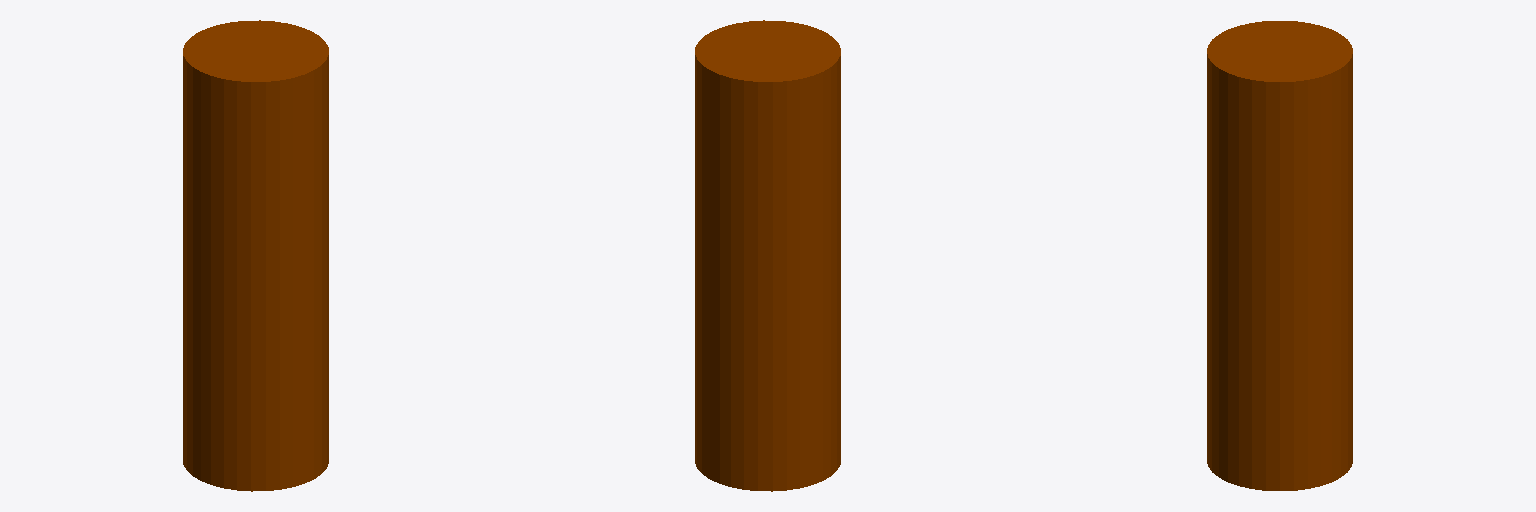
The robot description file, URDF, robot "cylinder":
<?xml version="1.0"?>
<robot name="cylinder">

	<!-- Define the brown (carton-like) color material -->
	<material name="carton_brown">
		<color rgba="0.59 0.29 0.0 1.0"/>
	</material>

	<link name="base">
		<visual>
			<origin xyz="0 0 0.0925" rpy="0 0 0" />
			<geometry>
				<cylinder length="0.185" radius="0.030"/>
			</geometry>
			<material name="carton_brown"/>
		</visual>
		<collision>
			<origin xyz="0 0 0.0925" rpy="0 0 0" />
			<geometry>
				<cylinder length="0.185" radius="0.030"/>
			</geometry>
			<material name="carton_brown"/>
		</collision>
	</link>
</robot>

--- Facts derived from the render (not from the file) ---
3 views of the same robot in one strip: view 1: azimuth 30°, elevation 25°; view 2: azimuth 150°, elevation 25°; view 3: azimuth 270°, elevation 25° (orthographic).
Robot: cylinder — 1 links, 0 joints (none); root link base; default pose: all joints at 0.
Links seen in each view (by area): view 1: base; view 2: base; view 3: base.
Boxes of the visible links, x1,y1,x2,y2 form: base: (183,20,328,491); base: (695,20,840,491); base: (1207,21,1352,490).
Bounding box of the posed robot: 0.06 × 0.06 × 0.185 m (x, y, z).
Geometry: primitives only (box / cylinder / sphere), no mesh files.